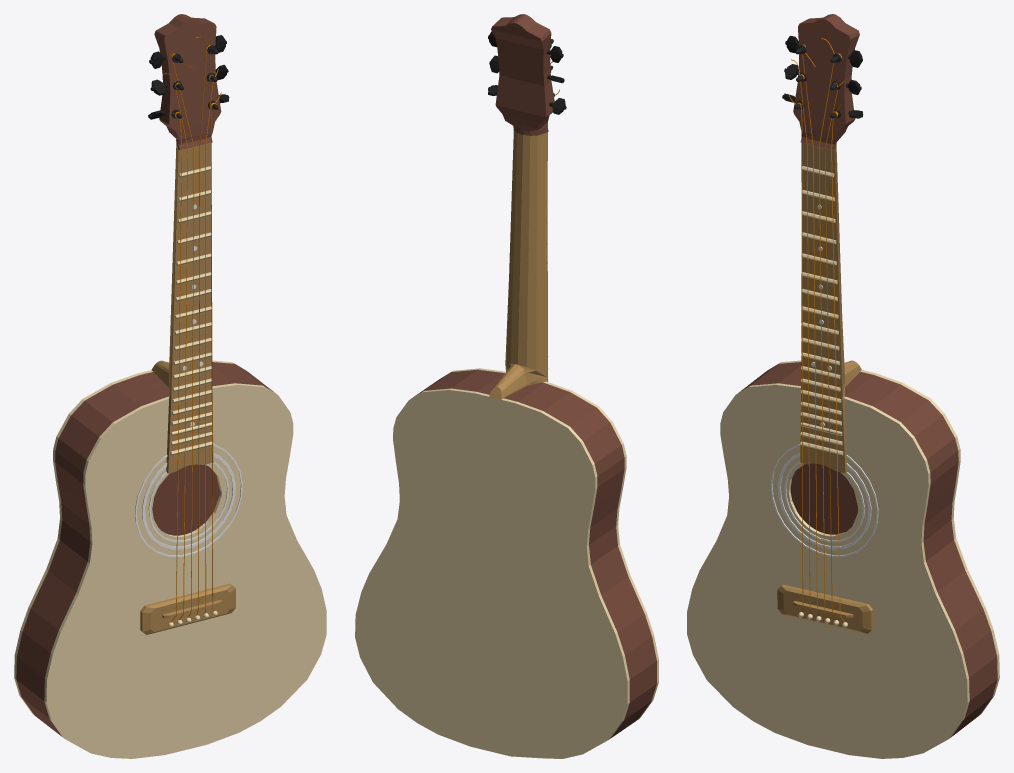
The model's file is Guitare1.fbx.
3 views of the same model, side by side, from view 1: azimuth 30°, elevation 25°; view 2: azimuth 150°, elevation 25°; view 3: azimuth 330°, elevation 25° (orthographic). The views are drawn at different scales.
Parts seen in each view (by area): view 1: Guitare1; view 2: Guitare1; view 3: Guitare1.
Boxes of the visible parts, <box> form: Guitare1: <box>14,14,326,758</box>; Guitare1: <box>355,14,658,758</box>; Guitare1: <box>687,14,999,758</box>.
Bounding box in the file's own units: 47.75 × 119 × 13.78.
